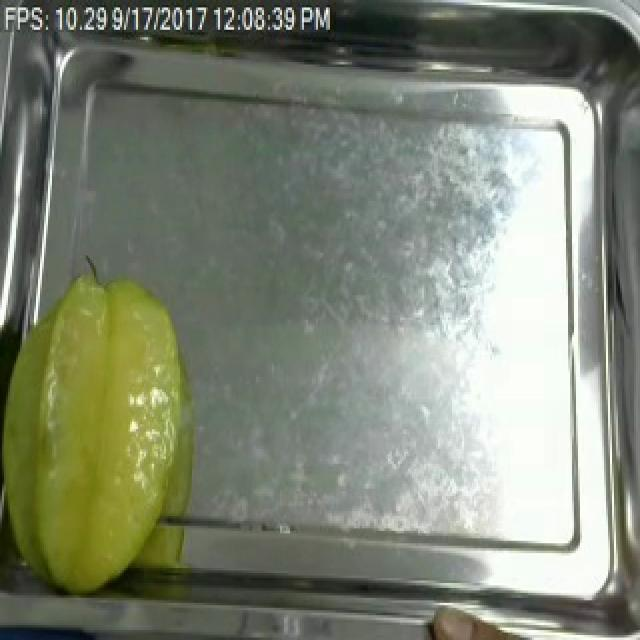fruit: (0, 258, 204, 608)
